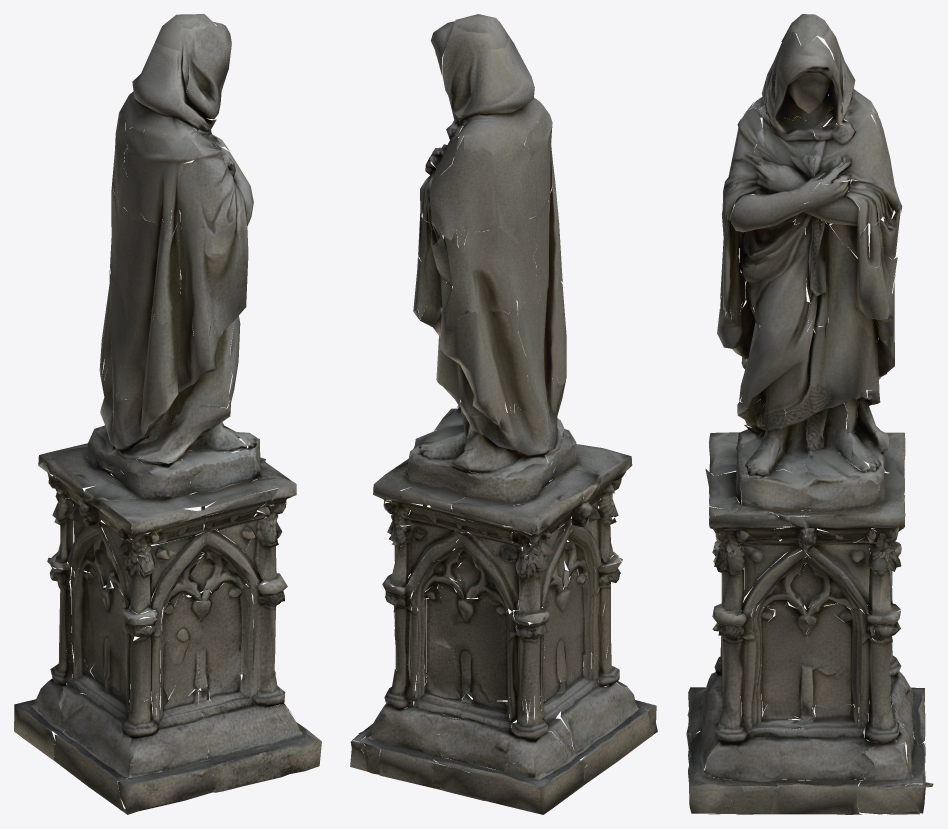
The model's file is funerary-monument-lod.glb.
3 views of the same model, side by side, from view 1: azimuth 30°, elevation 25°; view 2: azimuth 150°, elevation 25°; view 3: azimuth 270°, elevation 25° (orthographic). The views are drawn at different scales.
Parts seen in each view (by area): view 1: tripo_node_601d73ef-c727-4e47-b868-5556133cb847; view 2: tripo_node_601d73ef-c727-4e47-b868-5556133cb847; view 3: tripo_node_601d73ef-c727-4e47-b868-5556133cb847.
Boxes of the visible parts, x1,y1,x2,y2 form: tripo_node_601d73ef-c727-4e47-b868-5556133cb847: (14, 14, 321, 814); tripo_node_601d73ef-c727-4e47-b868-5556133cb847: (350, 14, 657, 814); tripo_node_601d73ef-c727-4e47-b868-5556133cb847: (686, 14, 933, 814).
Size of the model in its own units: 0.2817 by 1 by 0.2953.
Materials: 1 (1 with a texture image).
